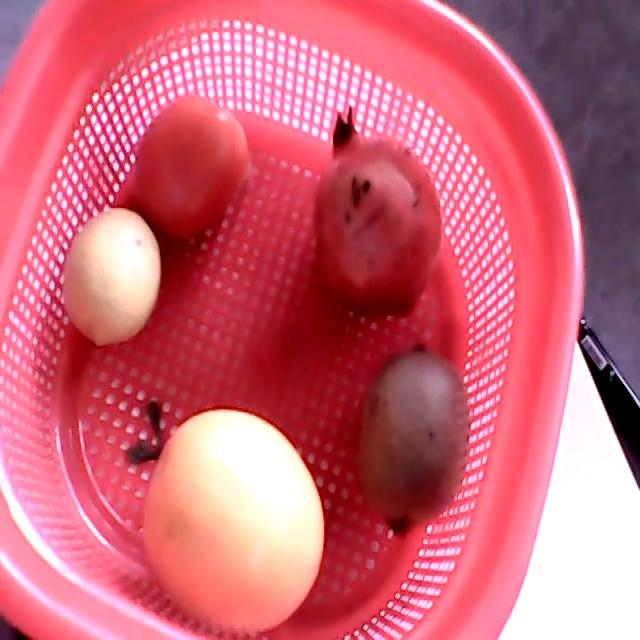kiwi: (354, 343, 468, 535)
lemon: (62, 209, 160, 346)
orange: (128, 401, 324, 635)
pomegranate: (312, 107, 442, 319)
tomato: (134, 93, 246, 242)
